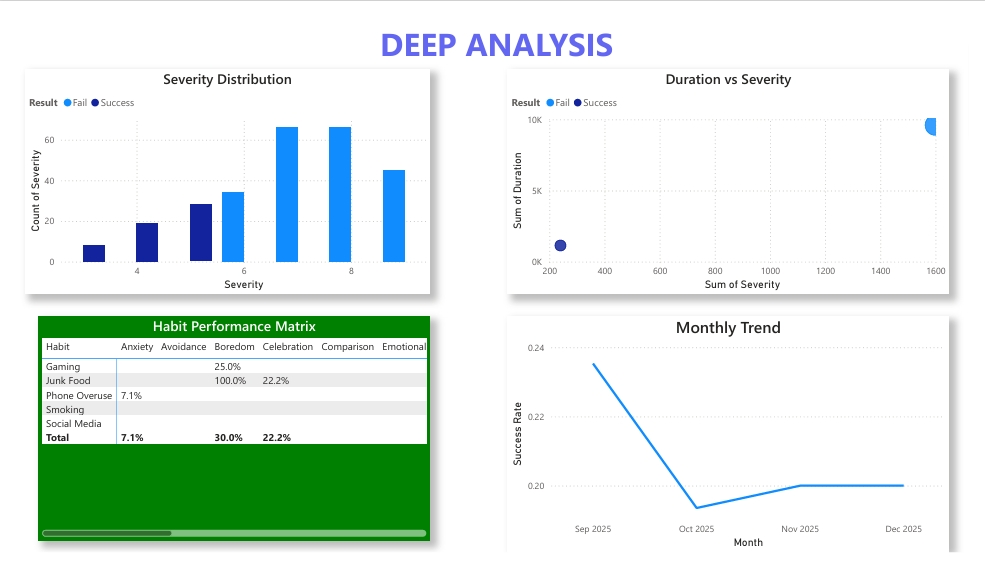

This screenshot's page, from the dashboard's own definition file:
{"tool":"powerbi","page":{"name":"Page 2","canvas":[1280,720],"ordinal":1},"visuals":[{"type":"textbox","box":[10.2,0,1270.2,68.8],"z":0},{"type":"clusteredColumnChart","title":"Severity Distribution","fields":{"Category":["habit_data.Severity"],"Y":["CountNonNull(habit_data.Severity)"],"Series":["habit_data.Result"]},"box":[10.2,68.8,544.4,302.9],"z":1000},{"type":"scatterChart","title":"Duration vs Severity","fields":{"X":["Sum(habit_data.Severity)"],"Y":["Sum(habit_data.Duration)"],"Series":["habit_data.Result"],"Size":["CountNonNull(habit_data.Severity)"]},"box":[660,68.8,594.1,302.9],"z":2000},{"type":"lineChart","title":"Monthly Trend","fields":{"Category":["habit_data.Month"],"Y":["habit_data.Success Rate"]},"box":[660,402.4,594.1,317.6],"z":3000},{"type":"pivotTable","title":"Habit Performance Matrix","fields":{"Rows":["habit_data.Habit"],"Columns":["habit_data.Trigger"],"Values":["habit_data.Success Rate %"]},"box":[27.8,402.4,526.8,301.5],"z":4000}]}

Visuals, with their boxes in screenshot pixels (x1, y1, x2, y2), scaled from the page's 1280x720 canvas onto the 985x570 screenshot:
textbox: left=8, top=0, right=984, bottom=54
"Severity Distribution" clusteredColumnChart: left=8, top=54, right=427, bottom=294
"Duration vs Severity" scatterChart: left=508, top=54, right=965, bottom=294
"Monthly Trend" lineChart: left=508, top=319, right=965, bottom=569
"Habit Performance Matrix" pivotTable: left=21, top=319, right=427, bottom=557
